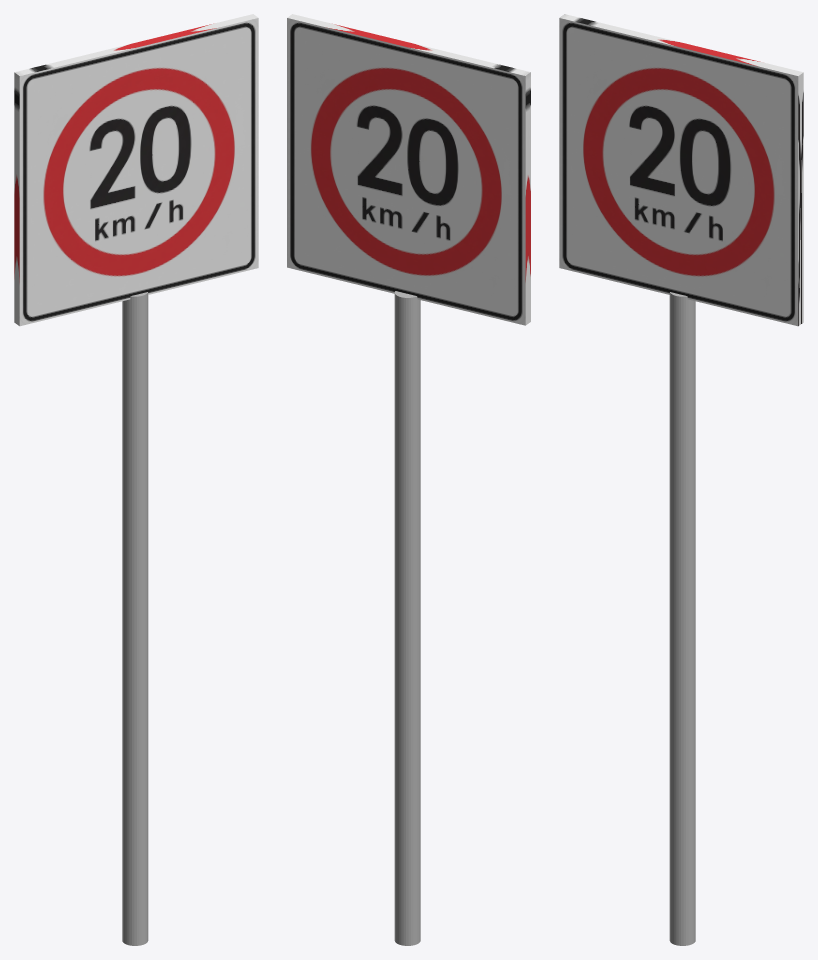
The model's file is MaxVelocidad.fbx.
3 renders of one model, left to right at view 1: azimuth 30°, elevation 25°; view 2: azimuth 150°, elevation 25°; view 3: azimuth 330°, elevation 25°, orthographic.
Visible parts, largest first — view 1: Cube, Cylinder; view 2: Cube, Cylinder; view 3: Cube, Cylinder.
Boxes of the visible parts, box(x1,y1,x2,y2) form: Cube: box(14, 14, 258, 326); Cylinder: box(122, 292, 148, 945); Cube: box(287, 14, 530, 325); Cylinder: box(394, 291, 420, 945); Cube: box(559, 14, 803, 326); Cylinder: box(669, 292, 695, 945).
Size of the model in its own units: 200 by 717 by 18.84.
Materials: 2 (1 with a texture image).
